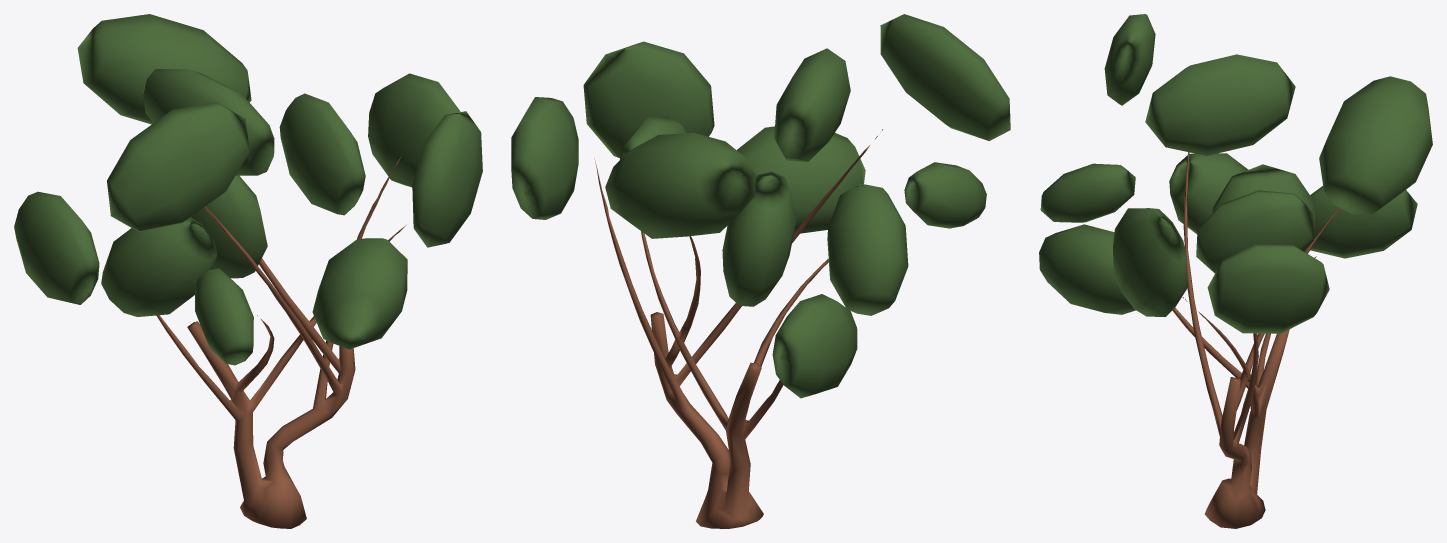
The model's file is Arbousier_0_Niveau2.fbx.
3 views of the same model, side by side, from view 1: azimuth 30°, elevation 25°; view 2: azimuth 150°, elevation 25°; view 3: azimuth 270°, elevation 25° (orthographic). The views are drawn at different scales.
Visible parts, largest first — view 1: Arbousier_0_Niveau2_Jeu; view 2: Arbousier_0_Niveau2_Jeu; view 3: Arbousier_0_Niveau2_Jeu.
Part boxes in pixels (left/top/right/bottom): Arbousier_0_Niveau2_Jeu: left=14, top=14, right=482, bottom=528; Arbousier_0_Niveau2_Jeu: left=511, top=14, right=1010, bottom=528; Arbousier_0_Niveau2_Jeu: left=1039, top=14, right=1432, bottom=528.
Size of the model in its own units: 182 by 206 by 168.
